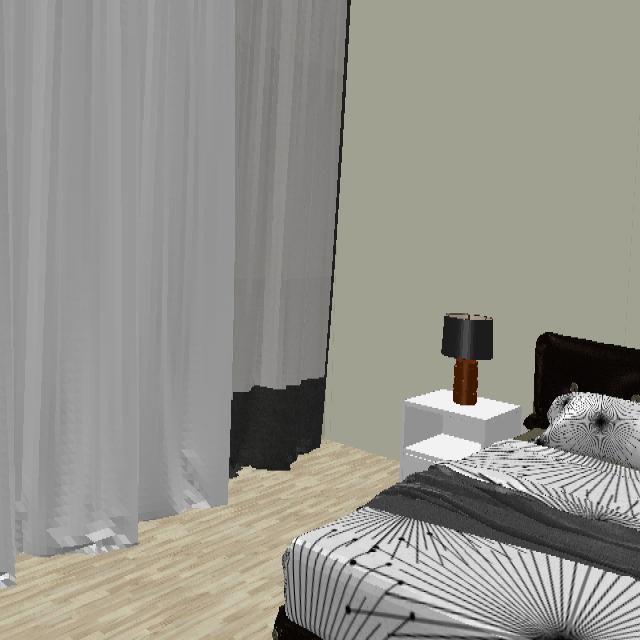bed: (273, 332, 640, 640)
lamp: (441, 313, 496, 409)
nighttable: (402, 391, 529, 480)
